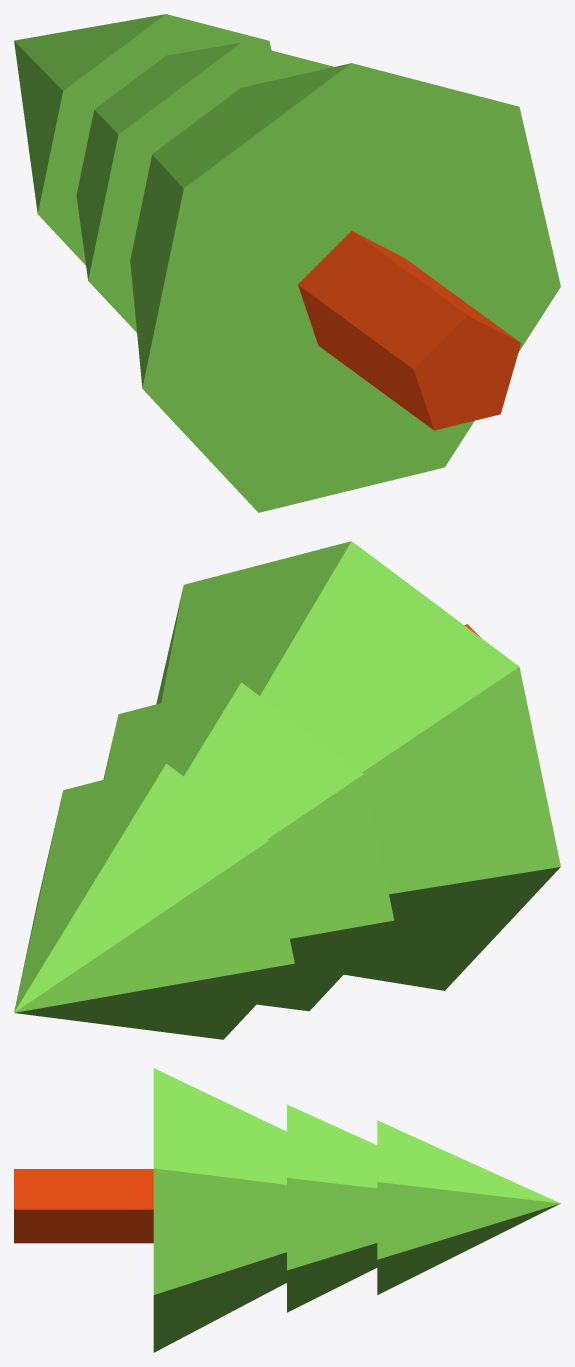
Rendered from lowPolyTree.fbx.
3 renders of one model, top to bottom at view 1: azimuth 30°, elevation 25°; view 2: azimuth 150°, elevation 25°; view 3: azimuth 270°, elevation 25°, orthographic. The views are drawn at different scales.
Visible parts, largest first — view 1: Tree2; view 2: Tree2; view 3: Tree2.
Boxes of the visible parts, x1=… form: Tree2: x1=14, y1=14, x2=560, y2=512; Tree2: x1=14, y1=541, x2=560, y2=1039; Tree2: x1=14, y1=1068, x2=560, y2=1352.
Bounding box in the file's own units: 267 × 260 × 500.
